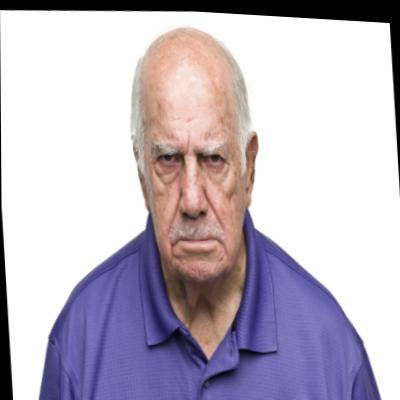angry: (136, 44, 250, 281)
